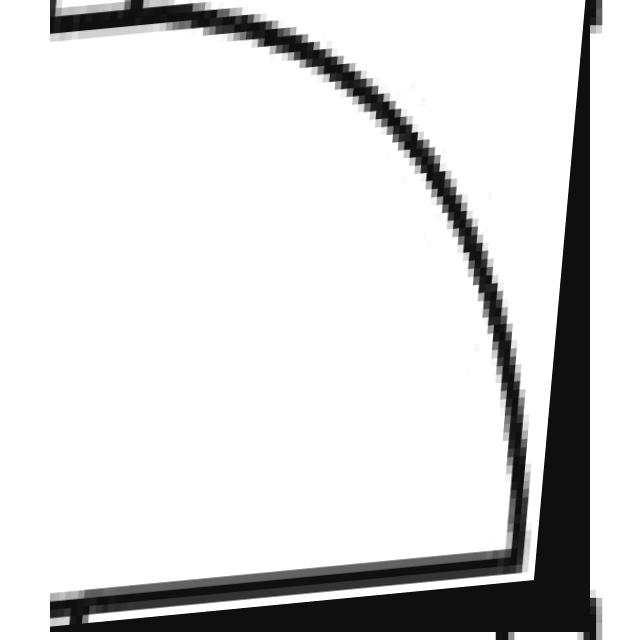door: (50, 0, 590, 632)
